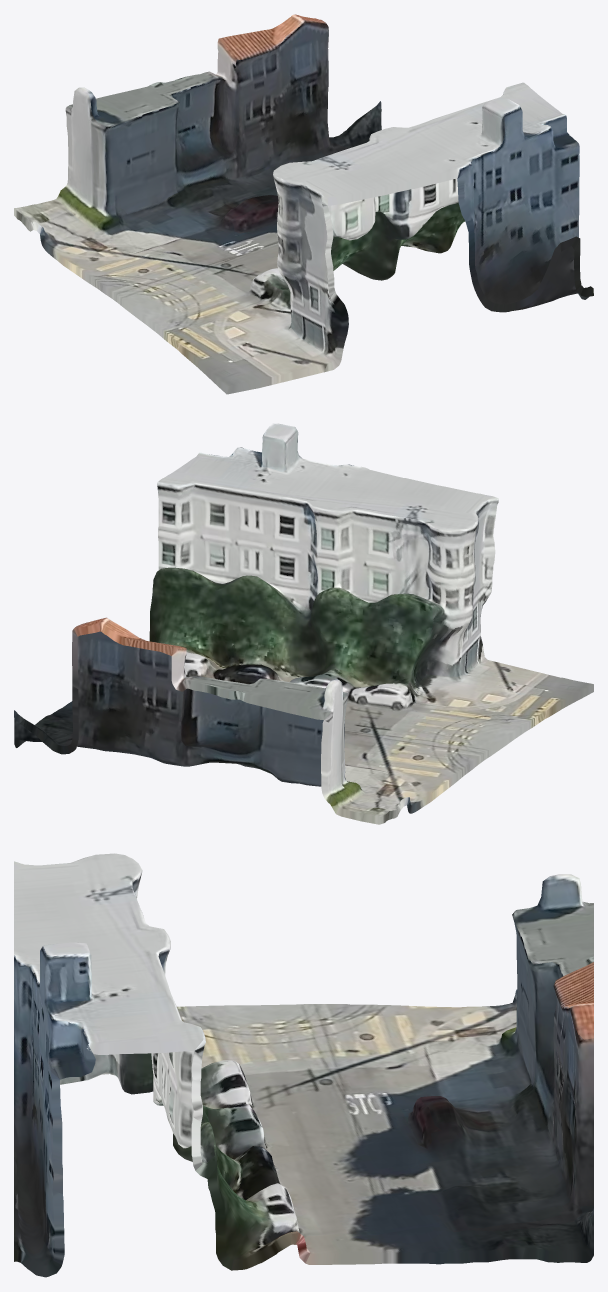
Rendered from z20-167724-405194-h0-yup-uvflip-v3-world.glb.
3 renders of one model, top to bottom at view 1: azimuth 30°, elevation 25°; view 2: azimuth 150°, elevation 25°; view 3: azimuth 270°, elevation 25°, orthographic. The views are drawn at different scales.
Bounding box in the file's own units: 30.2 × 16.28 × 30.32.
Materials: 1 (1 with a texture image).
